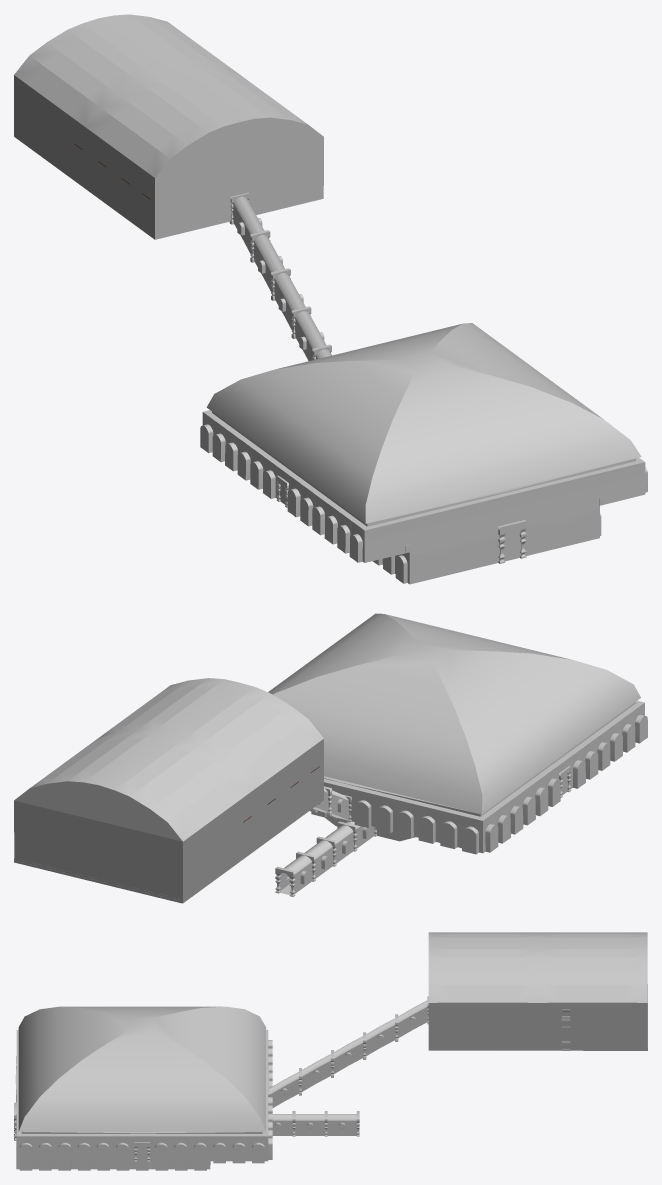
Rendered from ThroneRoomBallroom.fbx.
3 renders of one model, top to bottom at view 1: azimuth 30°, elevation 25°; view 2: azimuth 150°, elevation 25°; view 3: azimuth 270°, elevation 25°, orthographic. The views are drawn at different scales.
Parts seen in each view (by area): view 1: pSphere1, ThroneRoom, Ballroom, polySurface4 (×4); view 2: ThroneRoom, pSphere1, Ballroom, polySurface4 (×4), stair3, stair2; view 3: pSphere1, ThroneRoom, Ballroom, polySurface4 (×8).
Boxes of the visible parts, <box> form: pSphere1: <box>206,323,641,523</box>; ThroneRoom: <box>14,14,323,239</box>; Ballroom: <box>200,410,647,584</box>; polySurface4 (×4): <box>233,196,325,360</box>; ThroneRoom: <box>14,678,323,903</box>; pSphere1: <box>268,613,640,814</box>; Ballroom: <box>310,700,647,854</box>; polySurface4 (×4): <box>279,790,353,894</box>; stair3: <box>14,860,181,903</box>; stair2: <box>14,858,181,901</box>; pSphere1: <box>18,1006,265,1131</box>; ThroneRoom: <box>428,932,647,1050</box>; Ballroom: <box>15,1028,272,1170</box>; polySurface4 (×8): <box>268,1000,427,1135</box>.
Size of the model in its own units: 6094 by 4928 by 14849.
